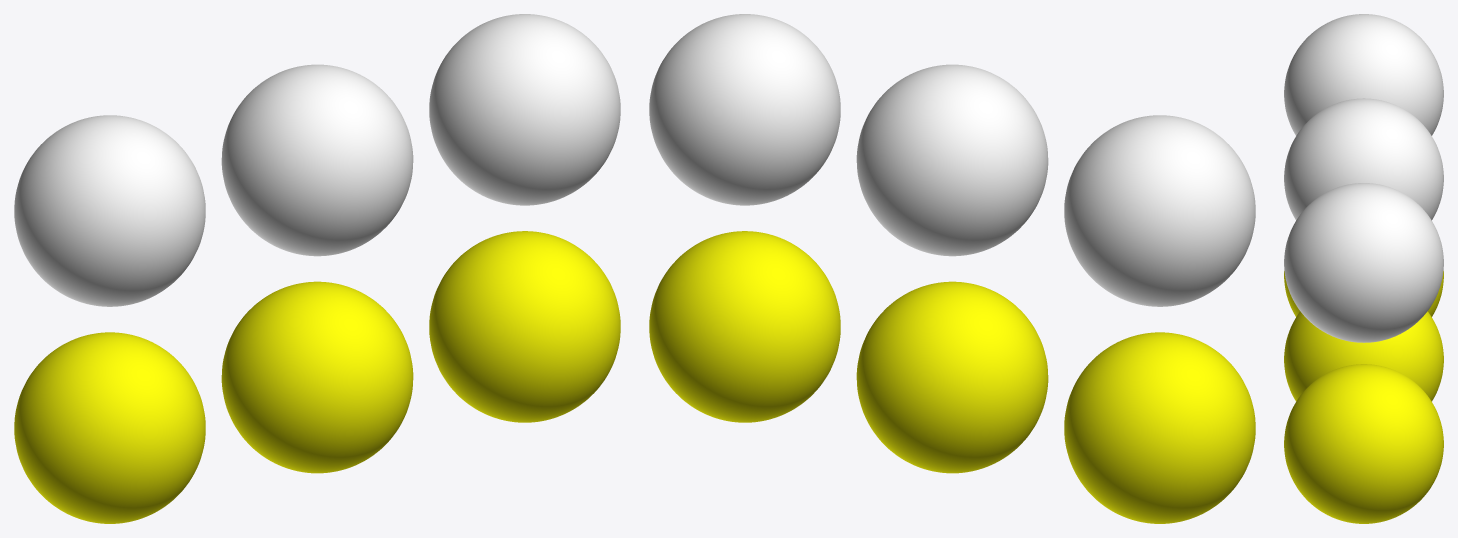
The model's file is silver-gold.gltf.
3 views of the same model, side by side, from view 1: azimuth 30°, elevation 25°; view 2: azimuth 150°, elevation 25°; view 3: azimuth 270°, elevation 25° (orthographic). The views are drawn at different scales.
Visible parts, largest first — view 1: Silver, Matte Yellow Plastic, Matte Plastic, Gold, Shiny Plastic, Shiny Yellow Plastic; view 2: Silver, Matte Yellow Plastic, Matte Plastic, Gold, Shiny Plastic, Shiny Yellow Plastic; view 3: Matte Yellow Plastic, Matte Plastic, Shiny Plastic, Silver, Shiny Yellow Plastic, Gold.
Part boxes in pixels (box(x1,y1,x2,y2)): Silver: box(14, 115, 205, 306); Matte Yellow Plastic: box(429, 231, 620, 422); Matte Plastic: box(429, 14, 620, 205); Gold: box(14, 332, 205, 523); Shiny Plastic: box(221, 64, 413, 256); Shiny Yellow Plastic: box(221, 281, 413, 473); Silver: box(1064, 115, 1255, 306); Matte Yellow Plastic: box(649, 231, 840, 422); Matte Plastic: box(649, 14, 840, 205); Gold: box(1064, 332, 1255, 523); Shiny Plastic: box(856, 64, 1048, 256); Shiny Yellow Plastic: box(856, 281, 1048, 473); Matte Yellow Plastic: box(1284, 364, 1443, 523); Matte Plastic: box(1284, 183, 1443, 342); Shiny Plastic: box(1284, 98, 1443, 220); Silver: box(1284, 14, 1443, 135); Shiny Yellow Plastic: box(1284, 311, 1443, 401); Gold: box(1284, 271, 1443, 316).
Bounding box in the file's own units: 7 × 4.5 × 2.
